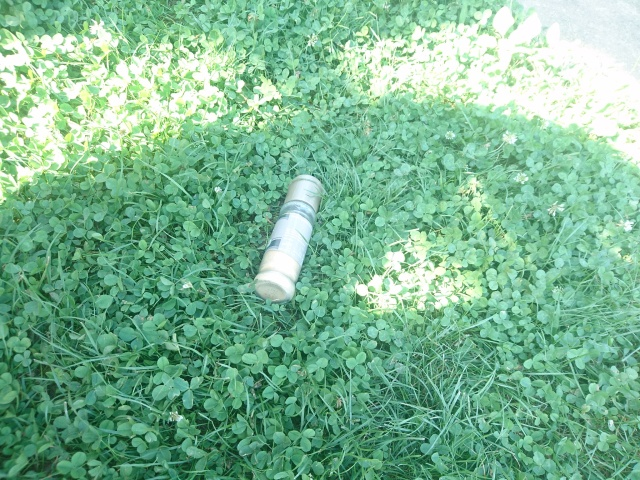Kotanyi Garlic Granules 70g: (249, 172, 327, 306)
